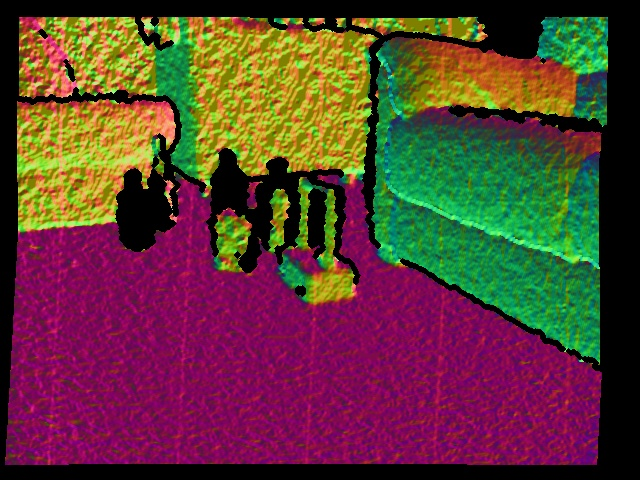station: (277, 177, 356, 304)
